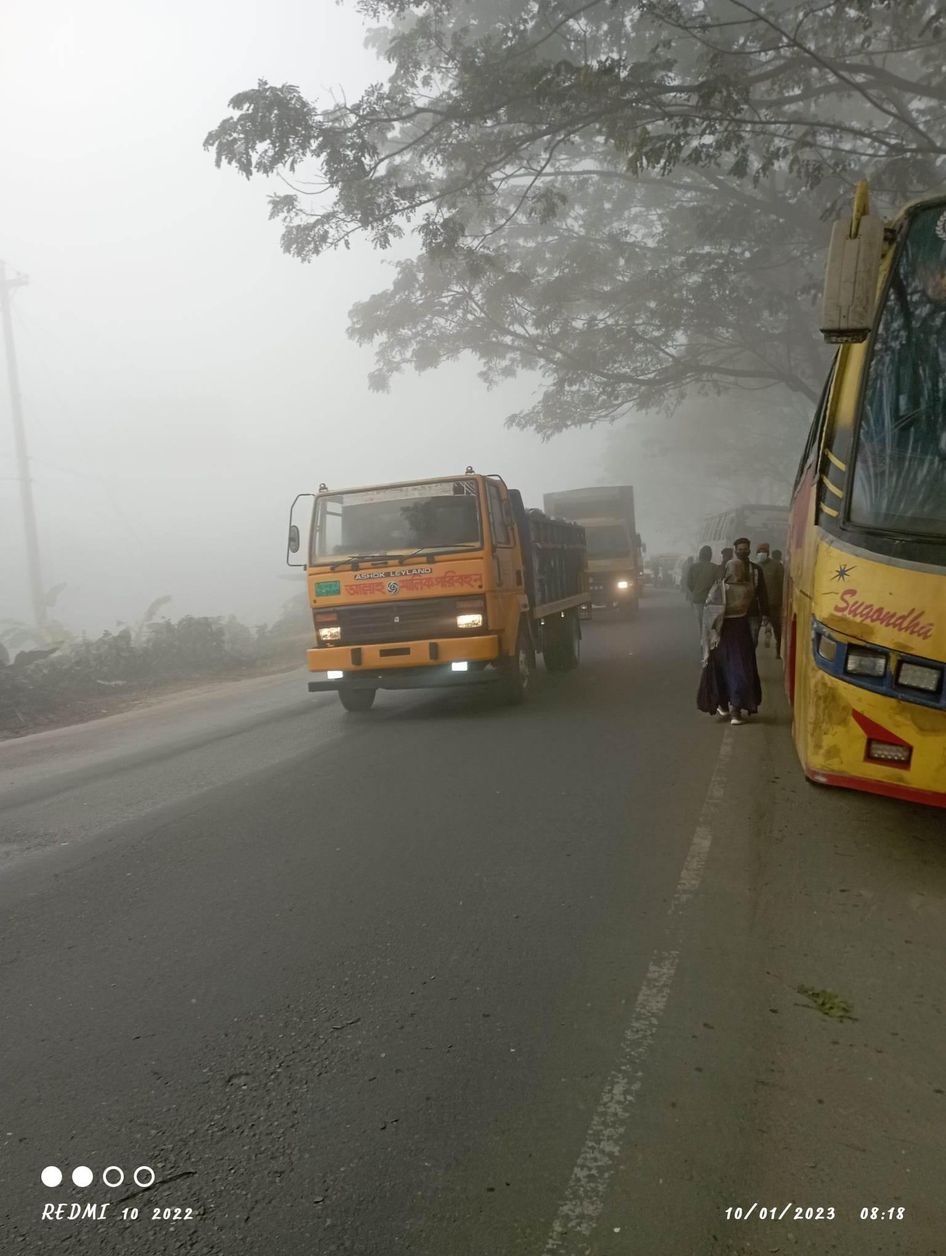Bus: (775, 166, 946, 829), (689, 478, 783, 614)
Truck: (272, 460, 598, 707), (550, 473, 644, 614)
